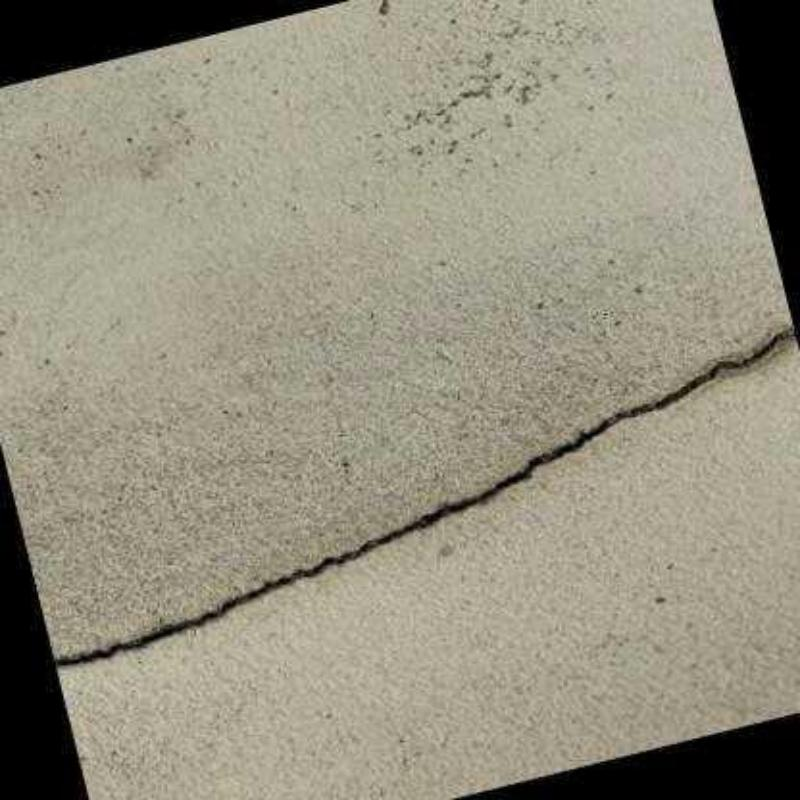crack: (54, 329, 796, 668)
